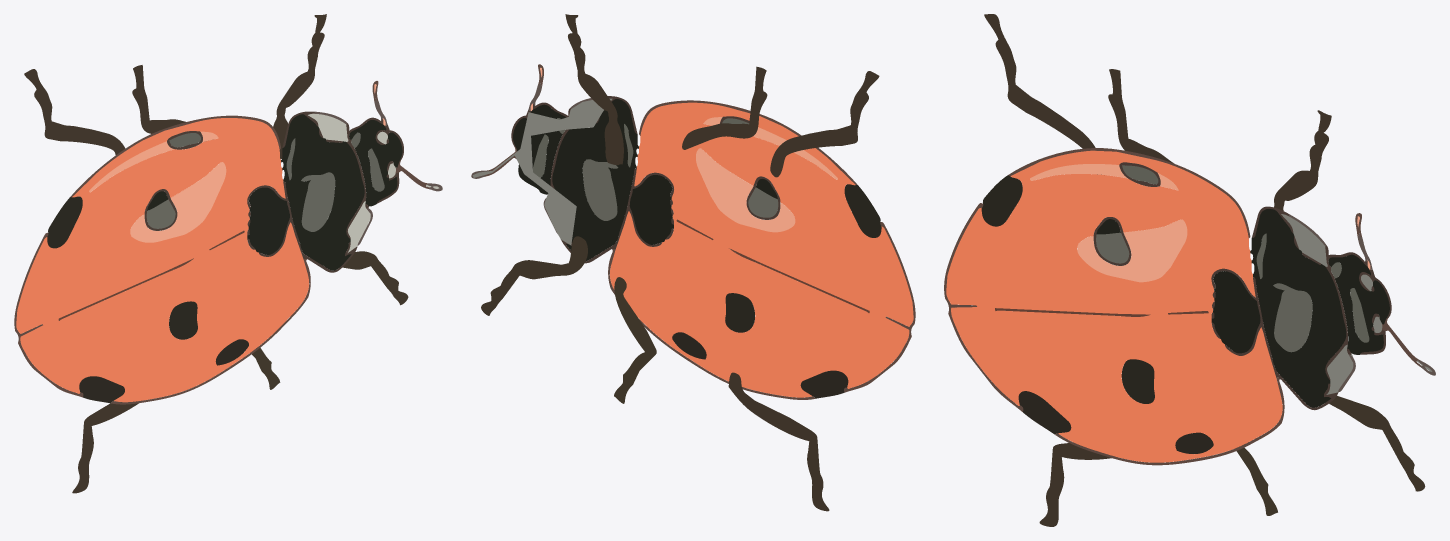
Rendered from ladybird.glb.
The picture shows the model from 3 angles, left to right: view 1: azimuth 30°, elevation 25°; view 2: azimuth 150°, elevation 25°; view 3: azimuth 330°, elevation 25°; orthographic projection. The views are drawn at different scales.
Visible parts, largest first — view 1: n.045, n.009, n.046, n.010, n.037, LadybirdLegFour, LadybirdLegSix, n.024, Plane, LadybirdLegTwo, n.042, LadybirdLegOne (+10 smaller); view 2: n.045, n.009, Plane, n.046, n.037, LadybirdLegFour, LadybirdLegTwo, LadybirdLegSix, LadybirdLegOne, LadybirdLegThree, LadybirdLegFive, n.024 (+11 smaller); view 3: n.045, n.009, n.046, n.037, n.010, LadybirdLegFour, n.024, Plane, LadybirdLegOne, LadybirdLegSix, LadybirdLegTwo, n.042 (+11 smaller).
Boxes of the visible parts, box(x1,y1,x2,y2) form: n.045: box(16, 118, 309, 402); n.009: box(281, 114, 364, 270); n.046: box(130, 162, 226, 242); n.010: box(349, 120, 402, 206); n.037: box(247, 187, 289, 254); LadybirdLegFour: box(24, 69, 125, 154); LadybirdLegSix: box(273, 14, 326, 159); n.024: box(301, 172, 335, 231); Plane: box(308, 113, 439, 252); LadybirdLegTwo: box(72, 401, 138, 493); n.042: box(47, 196, 82, 248); LadybirdLegOne: box(342, 251, 408, 305); n.045: box(609, 102, 913, 397); n.009: box(552, 99, 638, 260); Plane: box(472, 98, 612, 245); n.046: box(696, 148, 795, 232); n.037: box(629, 175, 673, 244); LadybirdLegFour: box(770, 71, 879, 177); LadybirdLegTwo: box(728, 372, 829, 511); LadybirdLegSix: box(565, 14, 623, 165); LadybirdLegOne: box(481, 236, 587, 315); LadybirdLegThree: box(682, 66, 767, 149); LadybirdLegFive: box(614, 277, 656, 403); n.024: box(582, 159, 618, 220); n.045: box(946, 150, 1282, 462); n.009: box(1250, 209, 1346, 407); n.046: box(1077, 219, 1187, 282); n.037: box(1211, 271, 1260, 353); n.010: box(1328, 254, 1389, 354); LadybirdLegFour: box(984, 14, 1101, 174); n.024: box(1273, 283, 1312, 351); Plane: box(1281, 214, 1432, 394); LadybirdLegOne: box(1329, 396, 1425, 491); LadybirdLegSix: box(1274, 110, 1331, 210); LadybirdLegTwo: box(1039, 443, 1111, 526); n.042: box(981, 175, 1022, 226).
Bounding box in the file's own units: 1.37 × 1.35 × 0.0693.
